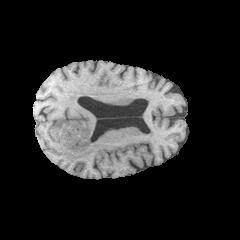glioma: (51, 109, 96, 162)
